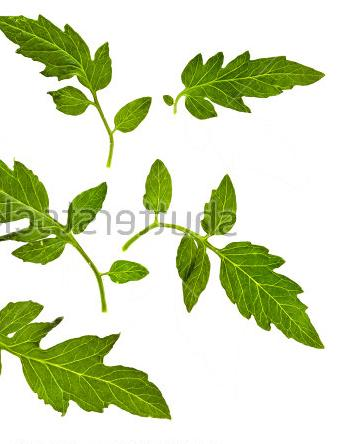Tomato leaf: (132, 155, 322, 353), (0, 262, 175, 437), (0, 3, 144, 207), (0, 133, 108, 303), (155, 43, 333, 132)
